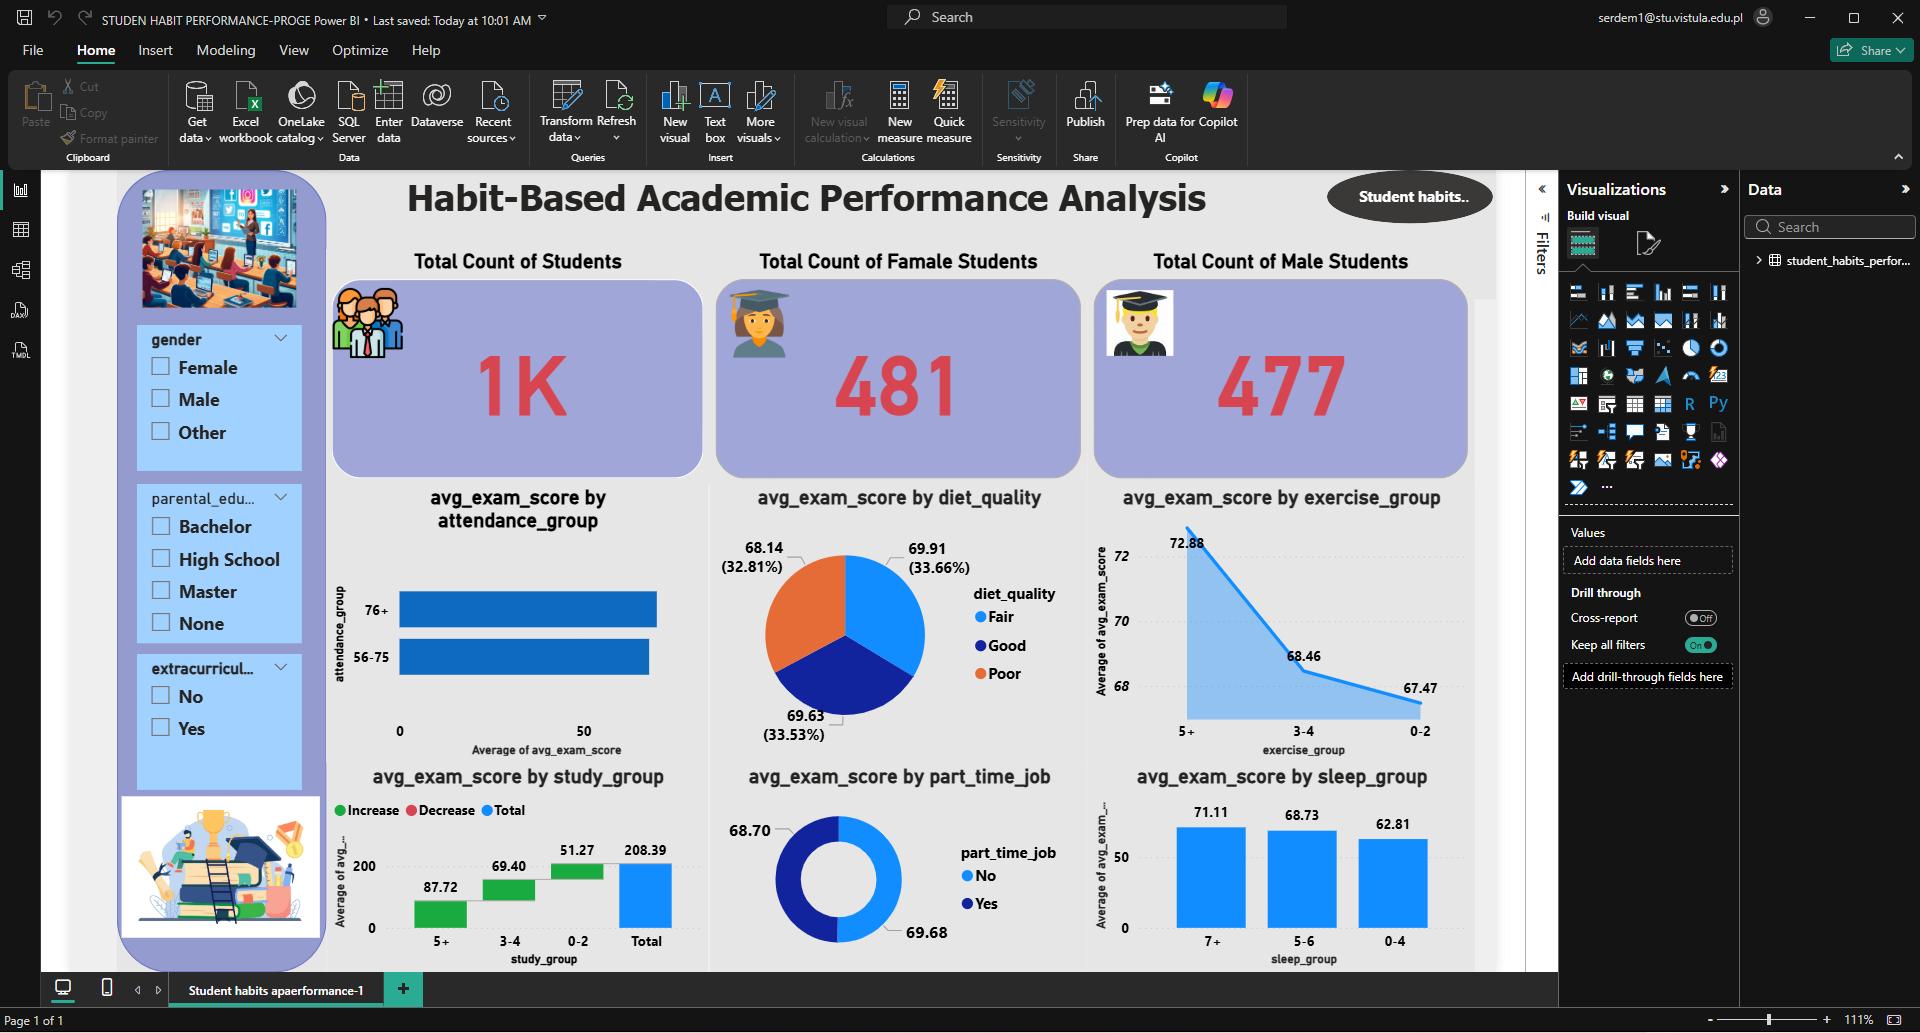

This screenshot's page, from the dashboard's own definition file:
{"tool":"powerbi","page":{"name":"Student habits apaerformance-1","canvas":[1280,720],"ordinal":0},"visuals":[{"type":"textbox","box":[41.9,0,1237.6,116.3],"z":0},{"type":"shape","box":[42.5,0,188.1,720.3],"z":1000},{"type":"cardVisual","title":"Total Count of Students","fields":{"Data":["Sum(student_habits_performance_1_3_gruplar.student_count)"]},"box":[230,70.9,344.9,211.1],"z":2000},{"type":"cardVisual","title":"Total Count of Famale Students","fields":{"Data":["Sum(student_habits_performance_1_3_gruplar.student_count)"]},"box":[574.9,70.9,338.6,211.1],"z":3000},{"type":"cardVisual","title":"Total Count of Male Students","fields":{"Data":["Sum(student_habits_performance_1_3_gruplar.student_count)"]},"box":[913.5,70.9,346.5,211.1],"z":4000},{"type":"clusteredBarChart","title":"avg_exam_score by attendance_group","fields":{"Category":["student_habits_performance_1_3_gruplar.attendance_group"],"Y":["Avg(student_habits_performance_1_3_gruplar.avg_exam_score)"]},"box":[230,281.9,343.4,250.4],"z":5000},{"type":"pieChart","title":"avg_exam_score by diet_quality","fields":{"Category":["student_habits_performance_1_3_gruplar.diet_quality"],"Y":["Avg(student_habits_performance_1_3_gruplar.avg_exam_score)"]},"box":[574.9,281.9,338.6,250.4],"z":6000},{"type":"areaChart","title":" avg_exam_score by exercise_group","fields":{"Category":["student_habits_performance_1_3_gruplar.exercise_group"],"Y":["Avg(student_habits_performance_1_3_gruplar.avg_exam_score)"]},"box":[913.5,281.9,346.5,250.4],"z":7000},{"type":"waterfallChart","title":"avg_exam_score by study_group","fields":{"Category":["student_habits_performance_1_3_gruplar.study_group"],"Y":["Avg(student_habits_performance_1_3_gruplar.avg_exam_score)"]},"box":[231,532,342,188],"z":8000},{"type":"donutChart","title":"avg_exam_score by part_time_job","fields":{"Category":["student_habits_performance_1_3_gruplar.part_time_job"],"Y":["Avg(student_habits_performance_1_3_gruplar.avg_exam_score)"]},"box":[575,532,339,188],"z":9000},{"type":"clusteredColumnChart","title":" avg_exam_score by sleep_group","fields":{"Category":["student_habits_performance_1_3_gruplar.sleep_group"],"Y":["Avg(student_habits_performance_1_3_gruplar.avg_exam_score)"]},"box":[914,532,347,188],"z":10000},{"type":"slicer","fields":{"Values":["student_habits_performance_1_3_gruplar.gender"]},"box":[60.6,139.2,148.2,131.4],"z":11000},{"type":"slicer","fields":{"Values":["student_habits_performance_1_3_gruplar.parental_education_level"]},"box":[60.6,282.2,148.2,143],"z":12000},{"type":"slicer","fields":{"Values":["student_habits_performance_1_3_gruplar.extracurricular_participation"]},"box":[60.6,434.3,148.2,122.4],"z":13000},{"type":"image","box":[41.2,542.5,188.1,167.5],"z":14000},{"type":"image","box":[60.6,12.9,148.2,116],"z":15000},{"type":"image","box":[230.7,97.9,73.5,78.6],"z":16000},{"type":"image","box":[576,86.3,85,104.4],"z":17000},{"type":"image","box":[925.2,97.9,69.6,78.6],"z":18000},{"type":"pageNavigator","box":[1128.8,0,149.5,49],"z":19000}]}

Visuals, with their boxes on the page's 1280x720 design canvas (x1, y1, x2, y2). These are canvas units, not pixel positions in the 1920x1033 screenshot, which may show the page scaled, cropped or inside an application window:
textbox: 42, 0, 1280, 116
shape: 42, 0, 231, 720
"Total Count of Students" cardVisual: 230, 71, 575, 282
"Total Count of Famale Students" cardVisual: 575, 71, 914, 282
"Total Count of Male Students" cardVisual: 914, 71, 1260, 282
"avg_exam_score by attendance_group" clusteredBarChart: 230, 282, 573, 532
"avg_exam_score by diet_quality" pieChart: 575, 282, 914, 532
" avg_exam_score by exercise_group" areaChart: 914, 282, 1260, 532
"avg_exam_score by study_group" waterfallChart: 231, 532, 573, 720
"avg_exam_score by part_time_job" donutChart: 575, 532, 914, 720
" avg_exam_score by sleep_group" clusteredColumnChart: 914, 532, 1261, 720
slicer - student_habits_performance_1_3_gruplar.gender: 61, 139, 209, 271
slicer - student_habits_performance_1_3_gruplar.parental_education_level: 61, 282, 209, 425
slicer - student_habits_performance_1_3_gruplar.extracurricular_participation: 61, 434, 209, 557
image: 41, 542, 229, 710
image: 61, 13, 209, 129
image: 231, 98, 304, 176
image: 576, 86, 661, 191
image: 925, 98, 995, 176
pageNavigator: 1129, 0, 1278, 49
